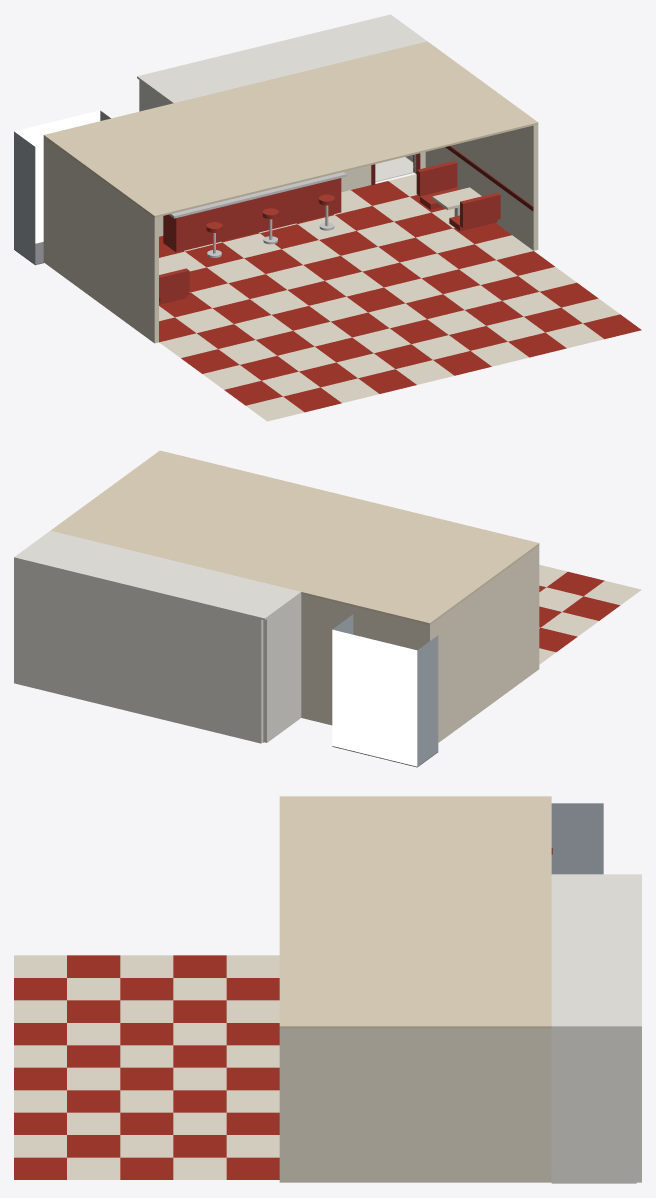
The model's file is diner.glb.
The picture shows the model from 3 angles, top to bottom: view 1: azimuth 30°, elevation 25°; view 2: azimuth 150°, elevation 25°; view 3: azimuth 270°, elevation 25°; orthographic projection. The views are drawn at different scales.
Visible parts, largest first — view 1: Floor, Ceiling, SideWallL, KitchenCeiling, SideWallR, Counter, OutsideSideL, Outside, BenchBackRB, BenchBackRA, CounterTop, BenchBackLA (+3 smaller); view 2: Ceiling, KitchenBack, SideWallL, Outside, KitchenCeiling, Floor, BackWall_2, KitchenSideL, OutsideSideL, BackWall_1; view 3: Ceiling, Floor, SideWallR, KitchenCeiling, KitchenSideR, OutsideSideL, OutsideSideR, BackWall_7, KitchenBack.
Part boxes in pixels (left/top/right/bottom): Floor: left=159, top=174, right=641, bottom=421; Ceiling: left=43, top=41, right=538, bottom=217; SideWallL: left=45, top=139, right=158, bottom=343; KitchenCeiling: left=137, top=14, right=426, bottom=103; SideWallR: left=425, top=124, right=538, bottom=250; Counter: left=163, top=178, right=341, bottom=252; OutsideSideL: left=14, top=131, right=35, bottom=263; Outside: left=14, top=110, right=100, bottom=243; BenchBackRB: left=416, top=161, right=457, bottom=196; BenchBackRA: left=460, top=192, right=500, bottom=227; CounterTop: left=169, top=172, right=346, bottom=218; BenchBackLA: left=159, top=268, right=189, bottom=301; Ceiling: left=51, top=450, right=539, bottom=624; KitchenBack: left=14, top=559, right=263, bottom=743; SideWallL: left=428, top=545, right=539, bottom=742; Outside: left=332, top=629, right=417, bottom=766; KitchenCeiling: left=14, top=530, right=301, bottom=620; Floor: left=539, top=564, right=641, bottom=664; BackWall_2: left=301, top=594, right=375, bottom=725; KitchenSideL: left=263, top=594, right=301, bottom=742; OutsideSideL: left=417, top=635, right=438, bottom=766; BackWall_1: left=375, top=612, right=416, bottom=649; Ceiling: left=279, top=796, right=551, bottom=1028; Floor: left=14, top=955, right=279, bottom=1179; SideWallR: left=279, top=1028, right=551, bottom=1182; KitchenCeiling: left=551, top=874, right=641, bottom=1028; KitchenSideR: left=551, top=1028, right=641, bottom=1182; OutsideSideL: left=551, top=803, right=603, bottom=854; OutsideSideR: left=551, top=854, right=603, bottom=874; BackWall_7: left=545, top=1028, right=551, bottom=1182; KitchenBack: left=636, top=1028, right=641, bottom=1182.
Size of the model in its own units: 10.47 by 3.27 by 11.82.
